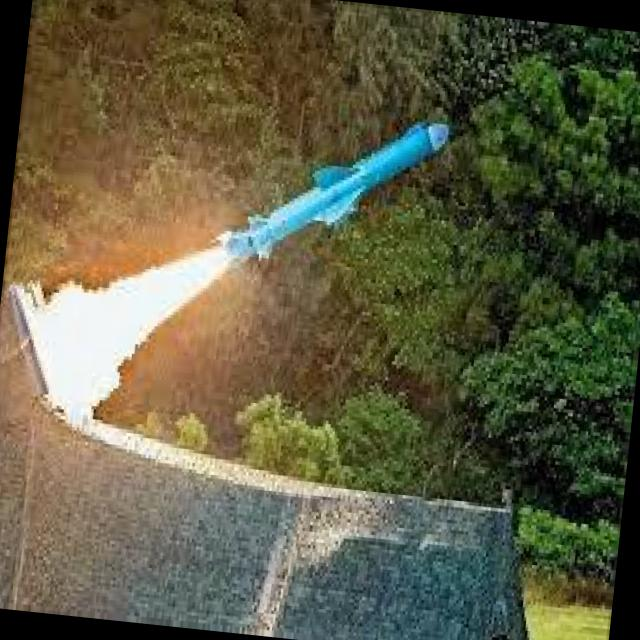rocket: (100, 82, 450, 359)
